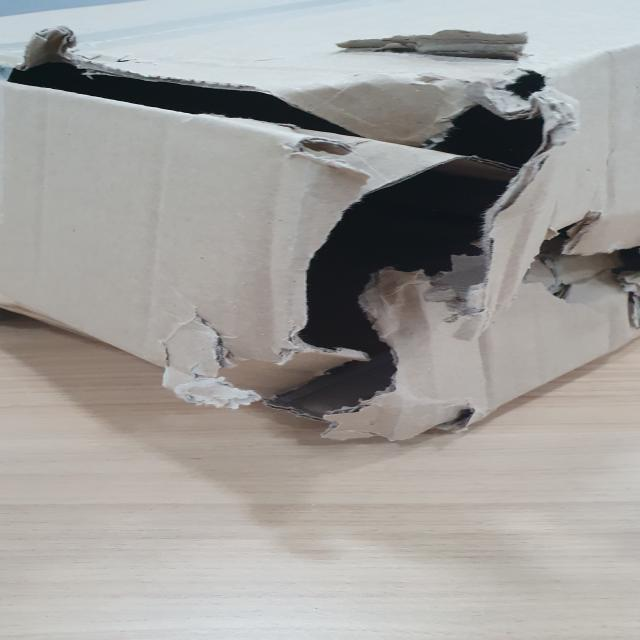hole: (263, 75, 565, 443), (0, 35, 254, 139), (539, 219, 639, 302)
